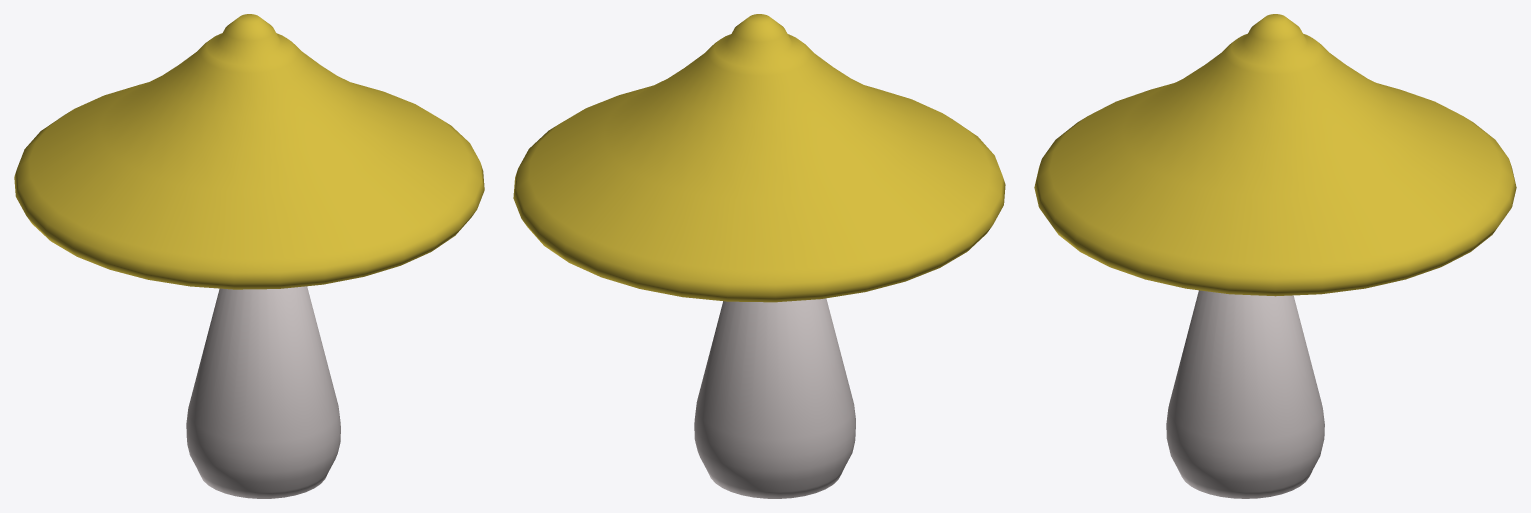
The model's file is mushrooms2.fbx.
3 renders of one model, left to right at view 1: azimuth 30°, elevation 25°; view 2: azimuth 150°, elevation 25°; view 3: azimuth 270°, elevation 25°, orthographic. The views are drawn at different scales.
Visible parts, largest first — view 1: Cylinder.001; view 2: Cylinder.001; view 3: Cylinder.001.
Part boxes in pixels (x1,y1,x2,y2): Cylinder.001: [14, 14, 484, 498]; Cylinder.001: [513, 14, 1005, 498]; Cylinder.001: [1034, 14, 1516, 498].
Size of the model in its own units: 466 by 483 by 466.
